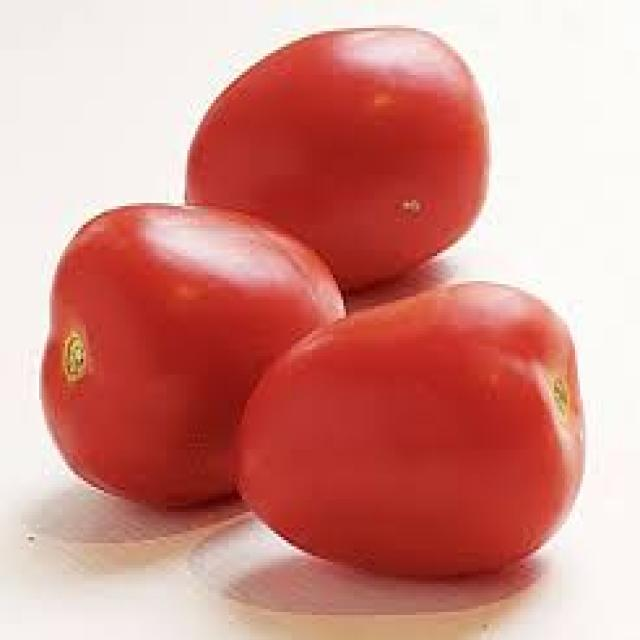Fresh_tomato: (244, 288, 588, 566), (53, 206, 332, 522), (190, 18, 470, 255)
